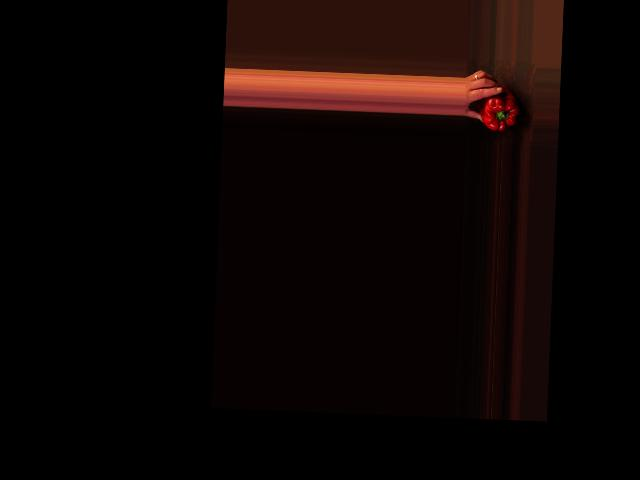bell_pepper: (478, 87, 521, 133)
